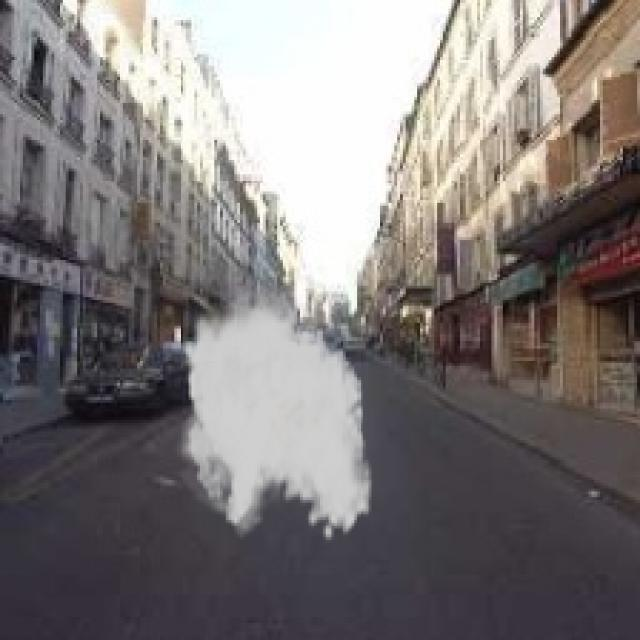Smoke: (172, 277, 374, 543)
